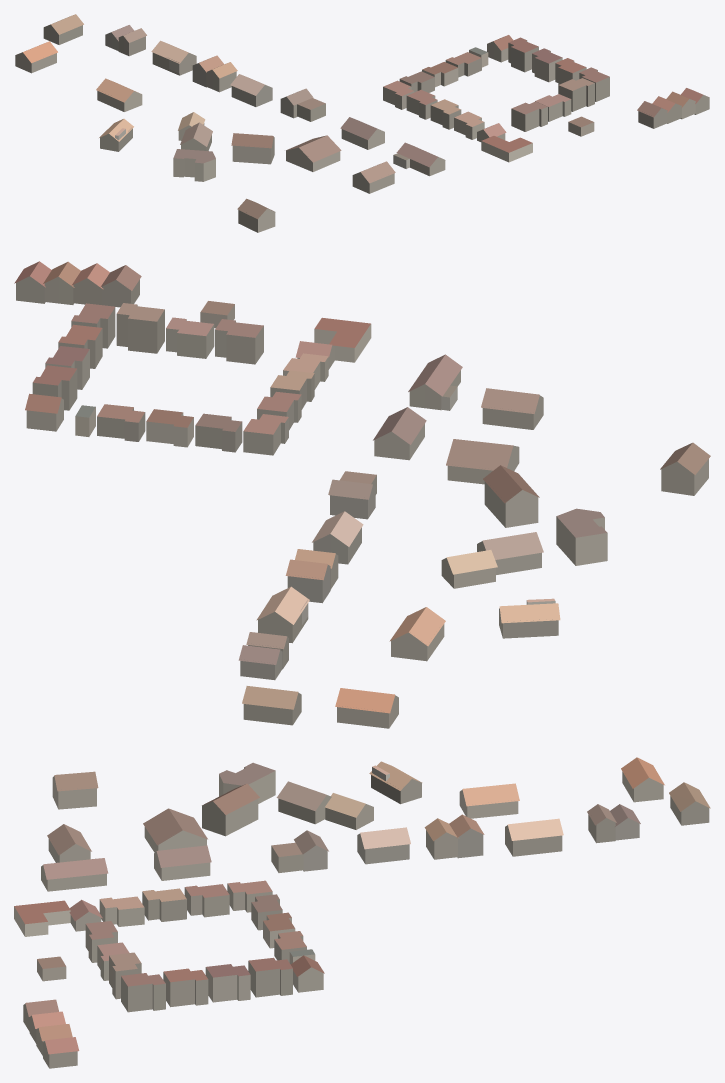
3 views of the same model, one above another, from view 1: azimuth 30°, elevation 25°; view 2: azimuth 150°, elevation 25°; view 3: azimuth 270°, elevation 25° (orthographic). The views are drawn at different scales.
Parts seen in each view (by area): view 1: tuile; view 2: tuile; view 3: tuile.
Part boxes in pixels (x1,y1,x2,y2): tuile: (15, 14, 709, 232); tuile: (14, 261, 710, 728); tuile: (14, 757, 710, 1068).
Size of the model in its own units: 200 by 18.52 by 189.
